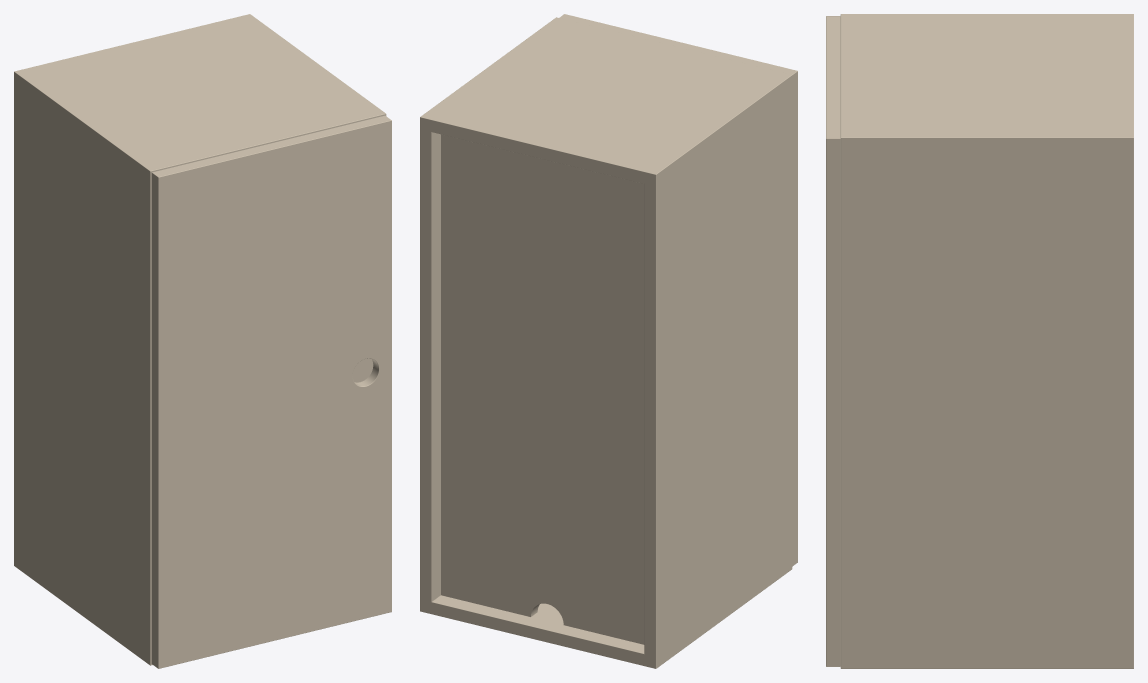
Rendered from MOD-1X2-D-B-DER-AP-AR.glb.
3 renders of one model, left to right at view 1: azimuth 30°, elevation 25°; view 2: azimuth 150°, elevation 25°; view 3: azimuth 270°, elevation 25°, orthographic. The views are drawn at different scales.
Bounding box in the file's own units: 360 × 720 × 378.
